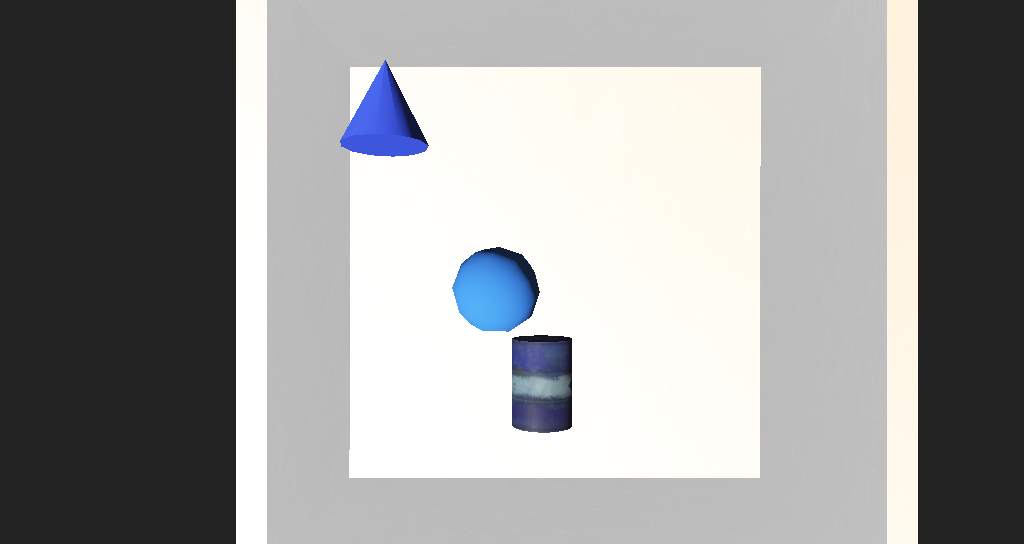cone: (475, 301, 522, 348)
cylinder: (344, 155, 411, 208)
sphere: (435, 253, 495, 301)
